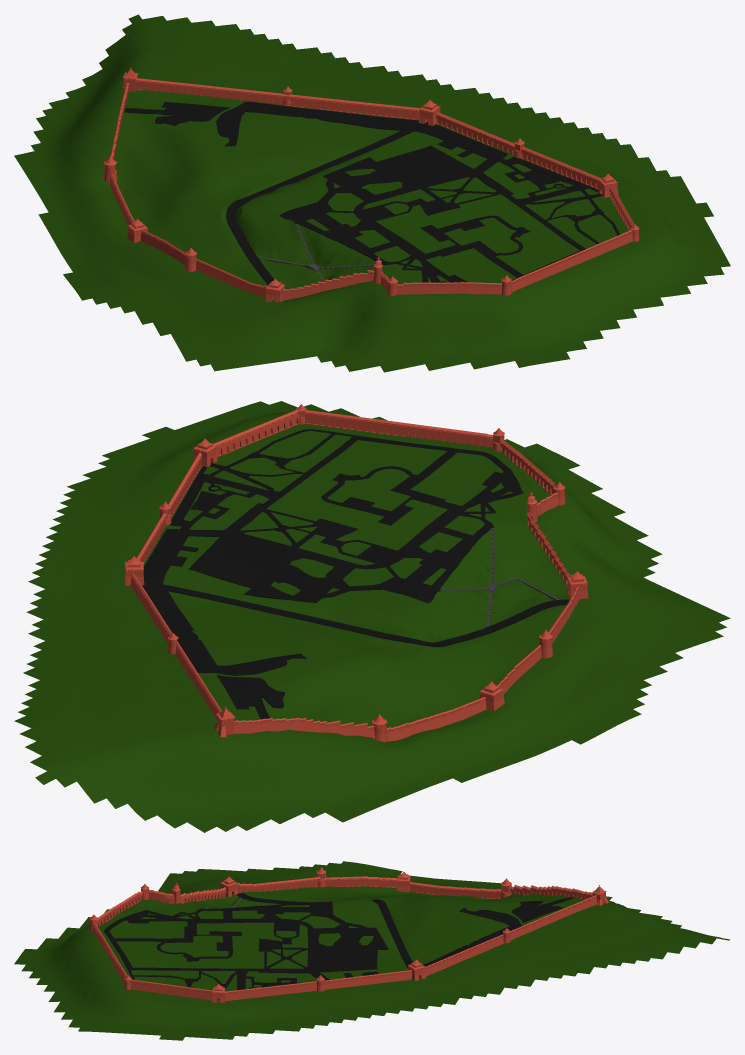
The model's file is kremlin-v1.glb.
3 views of the same model, one above another, from view 1: azimuth 30°, elevation 25°; view 2: azimuth 150°, elevation 25°; view 3: azimuth 270°, elevation 25° (orthographic). The views are drawn at different scales.
Parts seen in each view (by area): view 1: terrain, road2, walls, road3, road1, road4; view 2: terrain, road2, walls, road3, road1, road4, stairs; view 3: terrain, road2, walls, road3, road1, road4.
Boxes of the visible parts, x1,y1,x2,y2 form: terrain: [14, 14, 730, 372]; road2: [279, 145, 619, 284]; walls: [109, 78, 634, 300]; road3: [216, 101, 499, 158]; road1: [226, 128, 412, 285]; road4: [124, 102, 229, 125]; terrain: [14, 401, 730, 832]; road2: [163, 429, 523, 603]; walls: [130, 410, 579, 741]; road3: [142, 534, 306, 675]; road1: [163, 585, 568, 646]; road4: [216, 675, 285, 720]; stairs: [441, 527, 559, 627]; terrain: [14, 861, 730, 1040]; road2: [104, 901, 388, 999]; walls: [92, 876, 596, 1000]; road3: [343, 908, 522, 977]; road1: [237, 892, 412, 967]; road4: [511, 897, 574, 922].
Size of the model in its own units: 3182 by 440 by 4489.
